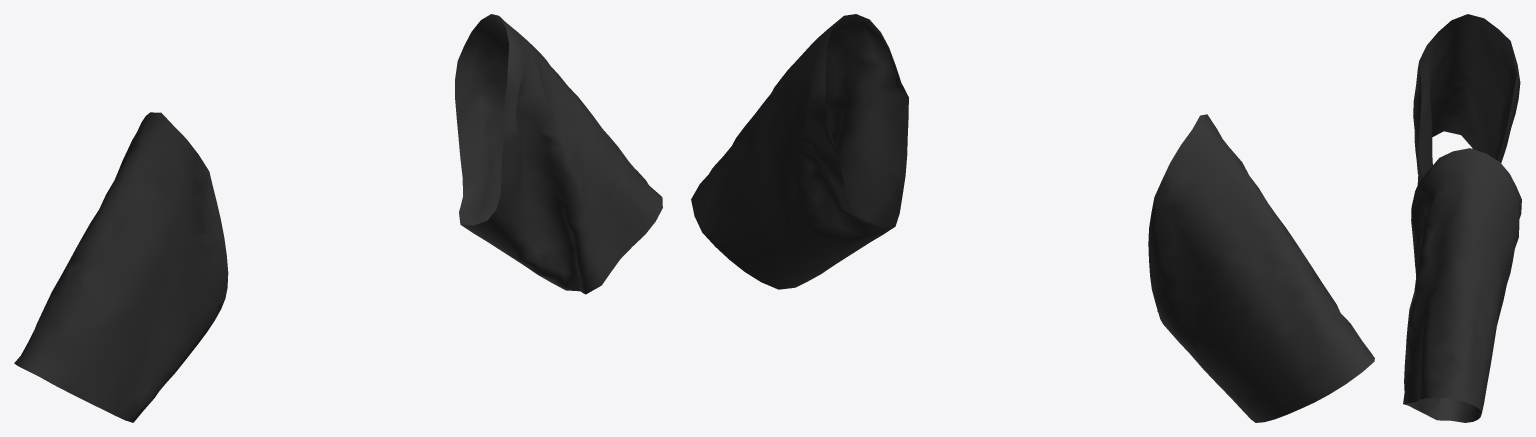
Rendered from rukovakorotkienew.gltf.
The picture shows the model from 3 angles, left to right: view 1: azimuth 30°, elevation 25°; view 2: azimuth 150°, elevation 25°; view 3: azimuth 270°, elevation 25°; orthographic projection. The views are drawn at different scales.
Parts seen in each view (by area): view 1: rukovakorotkienew; view 2: rukovakorotkienew; view 3: rukovakorotkienew.
Part boxes in pixels (x1,y1,x2,y2): rukovakorotkienew: (14, 14, 662, 422); rukovakorotkienew: (691, 14, 1374, 422); rukovakorotkienew: (1403, 14, 1521, 422).
Bounding box in the file's own units: 1.49 × 0.6653 × 0.2704.
Materials: 1 (1 with a texture image).
